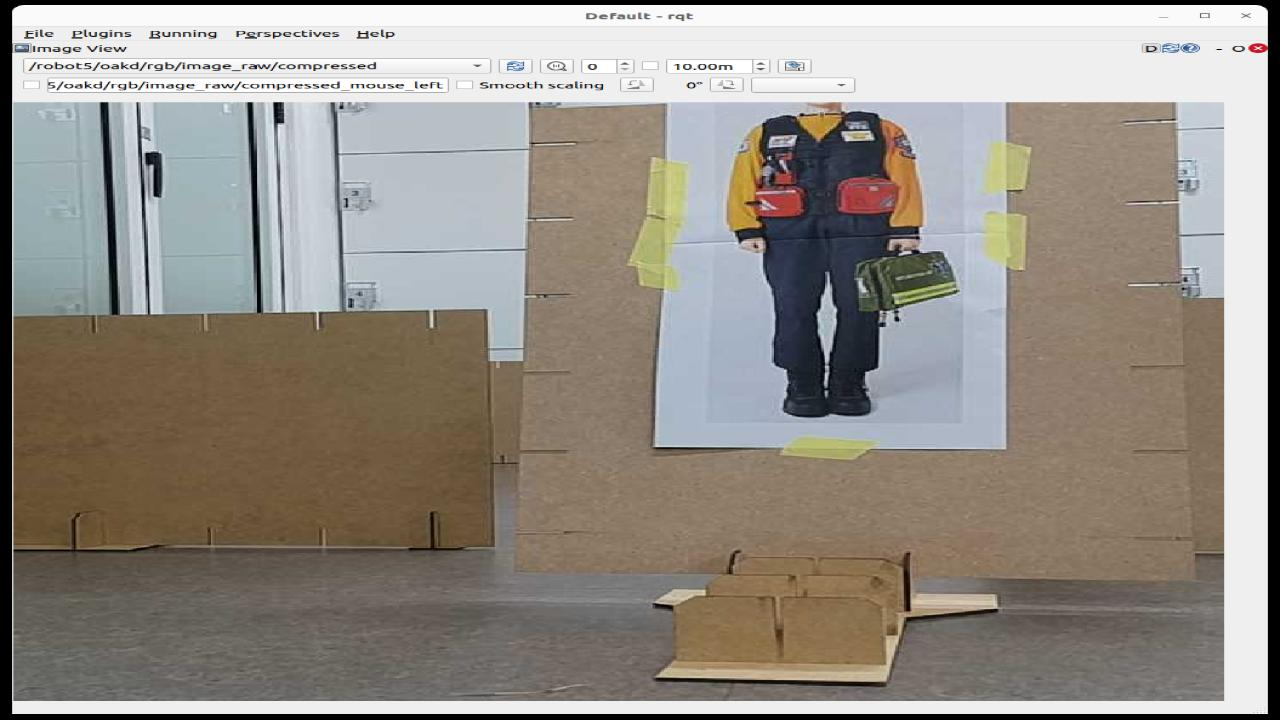Responder: (728, 103, 957, 417)
